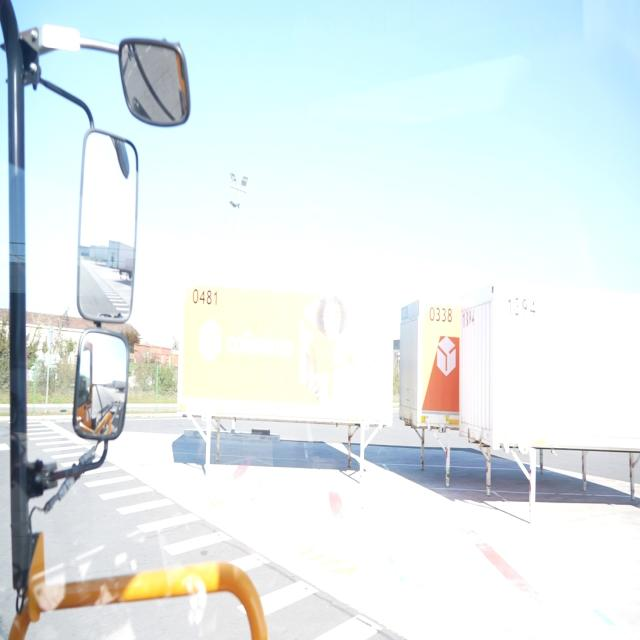Code: (424, 300, 454, 328), (190, 285, 220, 311)
